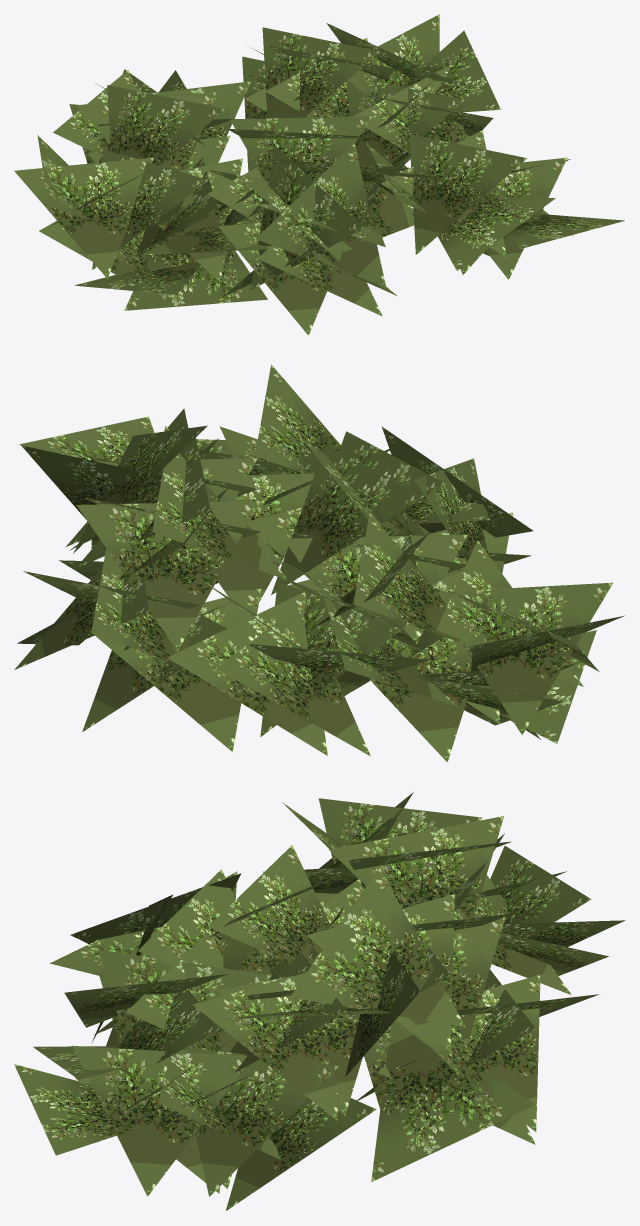
Rendered from tree_baobab_top_d.dae.
3 views of the same model, one above another, from view 1: azimuth 30°, elevation 25°; view 2: azimuth 150°, elevation 25°; view 3: azimuth 270°, elevation 25° (orthographic). The views are drawn at different scales.
Parts seen in each view (by area): view 1: canopy158-Pivot; view 2: canopy158-Pivot; view 3: canopy158-Pivot.
Part boxes in pixels (x1,y1,x2,y2): canopy158-Pivot: [14, 14, 624, 335]; canopy158-Pivot: [14, 364, 624, 762]; canopy158-Pivot: [14, 792, 625, 1210].
Size of the model in its own units: 23.37 by 20.81 by 10.06.
